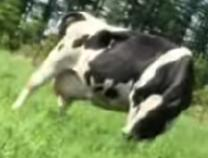cow: (13, 12, 195, 138)
